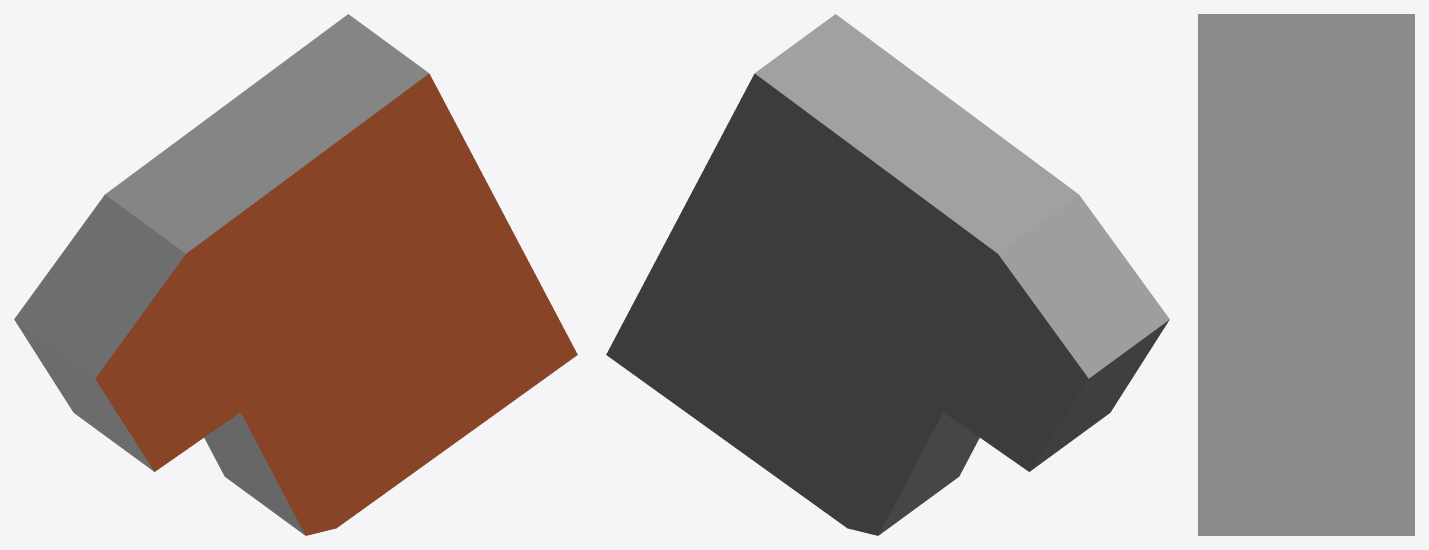
File: construction_3967_assumed_A_Casa_h6m.obj
3 renders of one model, left to right at view 1: azimuth 30°, elevation 25°; view 2: azimuth 150°, elevation 25°; view 3: azimuth 270°, elevation 25°, orthographic. The views are drawn at different scales.
Parts seen in each view (by area): view 1: construction_3967_assumed_A_Casa; view 2: construction_3967_assumed_A_Casa; view 3: construction_3967_assumed_A_Casa.
Boxes of the visible parts, box(x1,y1,x2,y2) form: construction_3967_assumed_A_Casa: box(14, 14, 577, 535); construction_3967_assumed_A_Casa: box(606, 14, 1169, 535); construction_3967_assumed_A_Casa: box(1198, 14, 1414, 535).
Bounding box in the file's own units: 20.62 × 17.65 × 6.
